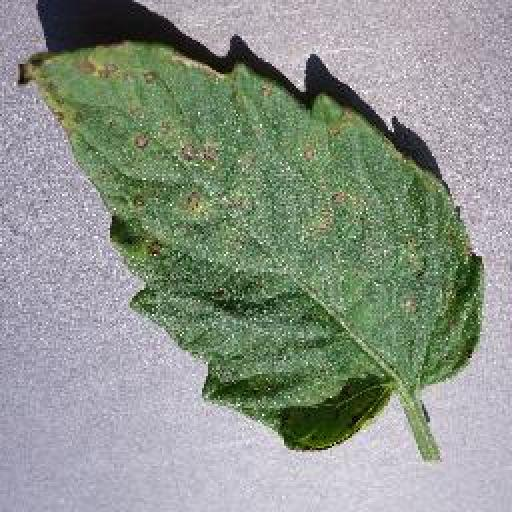Septoria: (20, 35, 488, 452)
